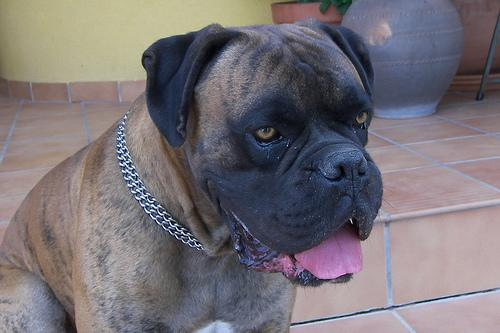dog-boxer: (140, 16, 381, 285)
